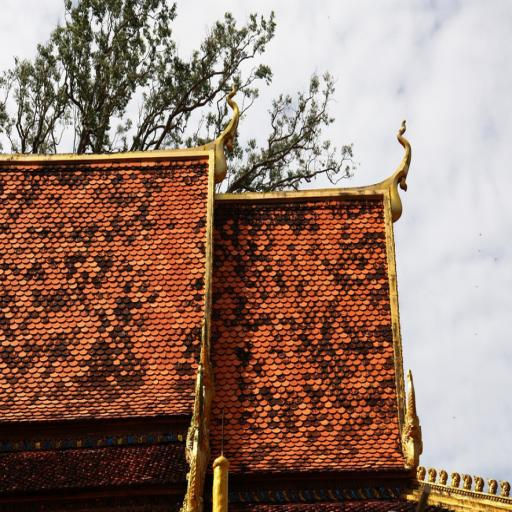lua: (204, 78, 247, 184), (382, 116, 417, 232)
ran: (175, 357, 214, 512), (398, 364, 429, 482)
